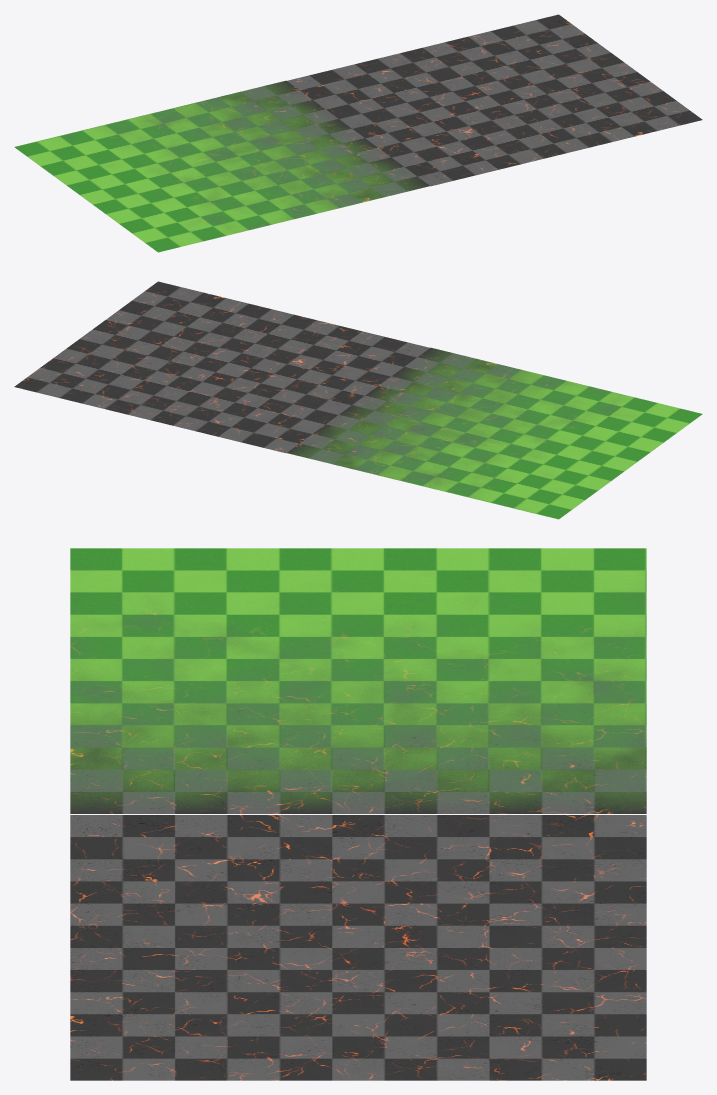
File: lavaworld.glb
3 views of the same model, one above another, from view 1: azimuth 30°, elevation 25°; view 2: azimuth 150°, elevation 25°; view 3: azimuth 270°, elevation 25° (orthographic). The views are drawn at different scales.
Parts seen in each view (by area): view 1: grass_to_lava, lava; view 2: grass_to_lava, lava; view 3: grass_to_lava, lava.
Part boxes in pixels (x1,y1,x2,y2): grass_to_lava: [14, 80, 429, 252]; lava: [287, 14, 702, 186]; grass_to_lava: [287, 347, 702, 519]; lava: [14, 281, 429, 453]; grass_to_lava: [70, 548, 646, 813]; lava: [70, 815, 646, 1080].
Size of the model in its own units: 48.01 by 0.0343 by 22.
Materials: 2 (2 with a texture image).
